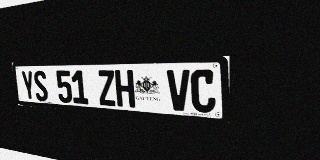1: (70, 70, 88, 104)
5: (56, 70, 73, 103)
C: (190, 69, 216, 113)
H: (114, 70, 135, 108)
S: (33, 71, 49, 102)
V: (167, 70, 191, 112)
Y: (20, 71, 36, 101)
Z: (97, 70, 117, 106)
